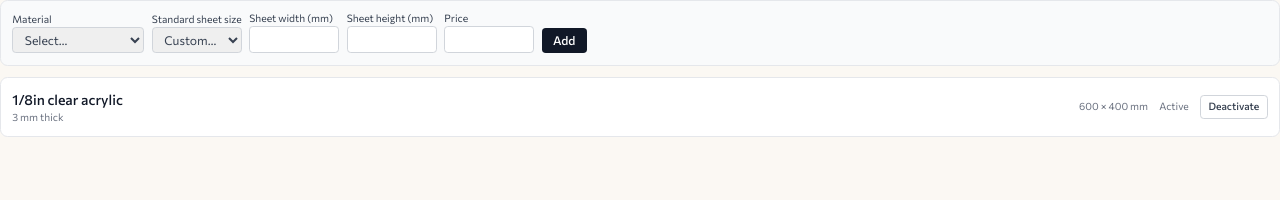
Test: MaterialAdmin › surfaces a role="alert" when toggle fails (no silent failure)
The image size is (1280, 200).
Click the button "Deactivate".
click(1234, 107)  # box [1200, 95, 1268, 119]
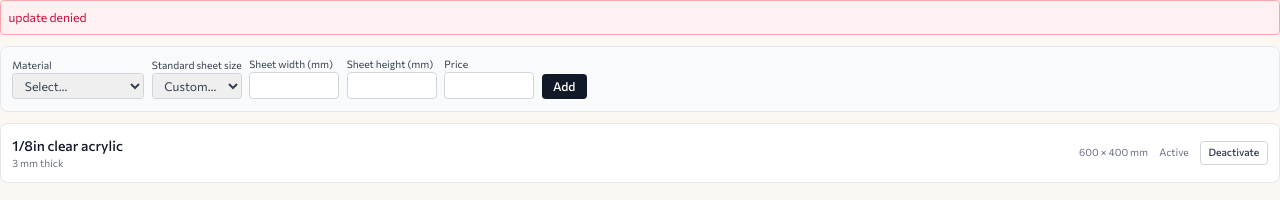
Check: the message "update denied" is shown, box [0, 0, 1279, 35]
